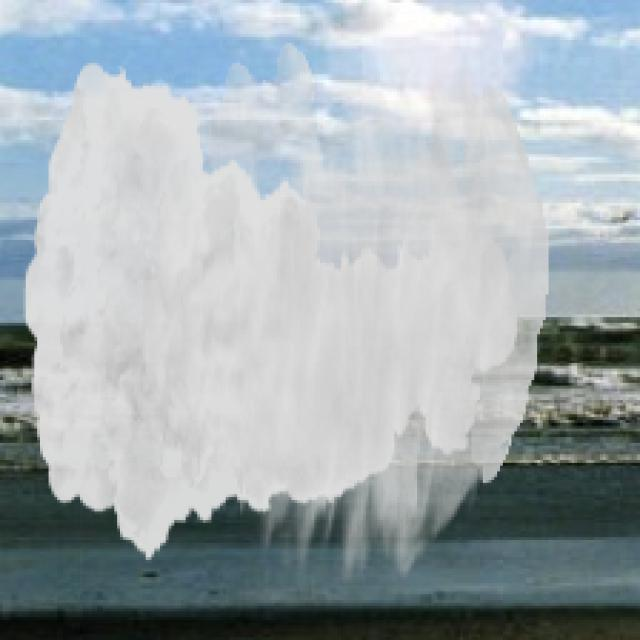smoke: (23, 43, 548, 583)
